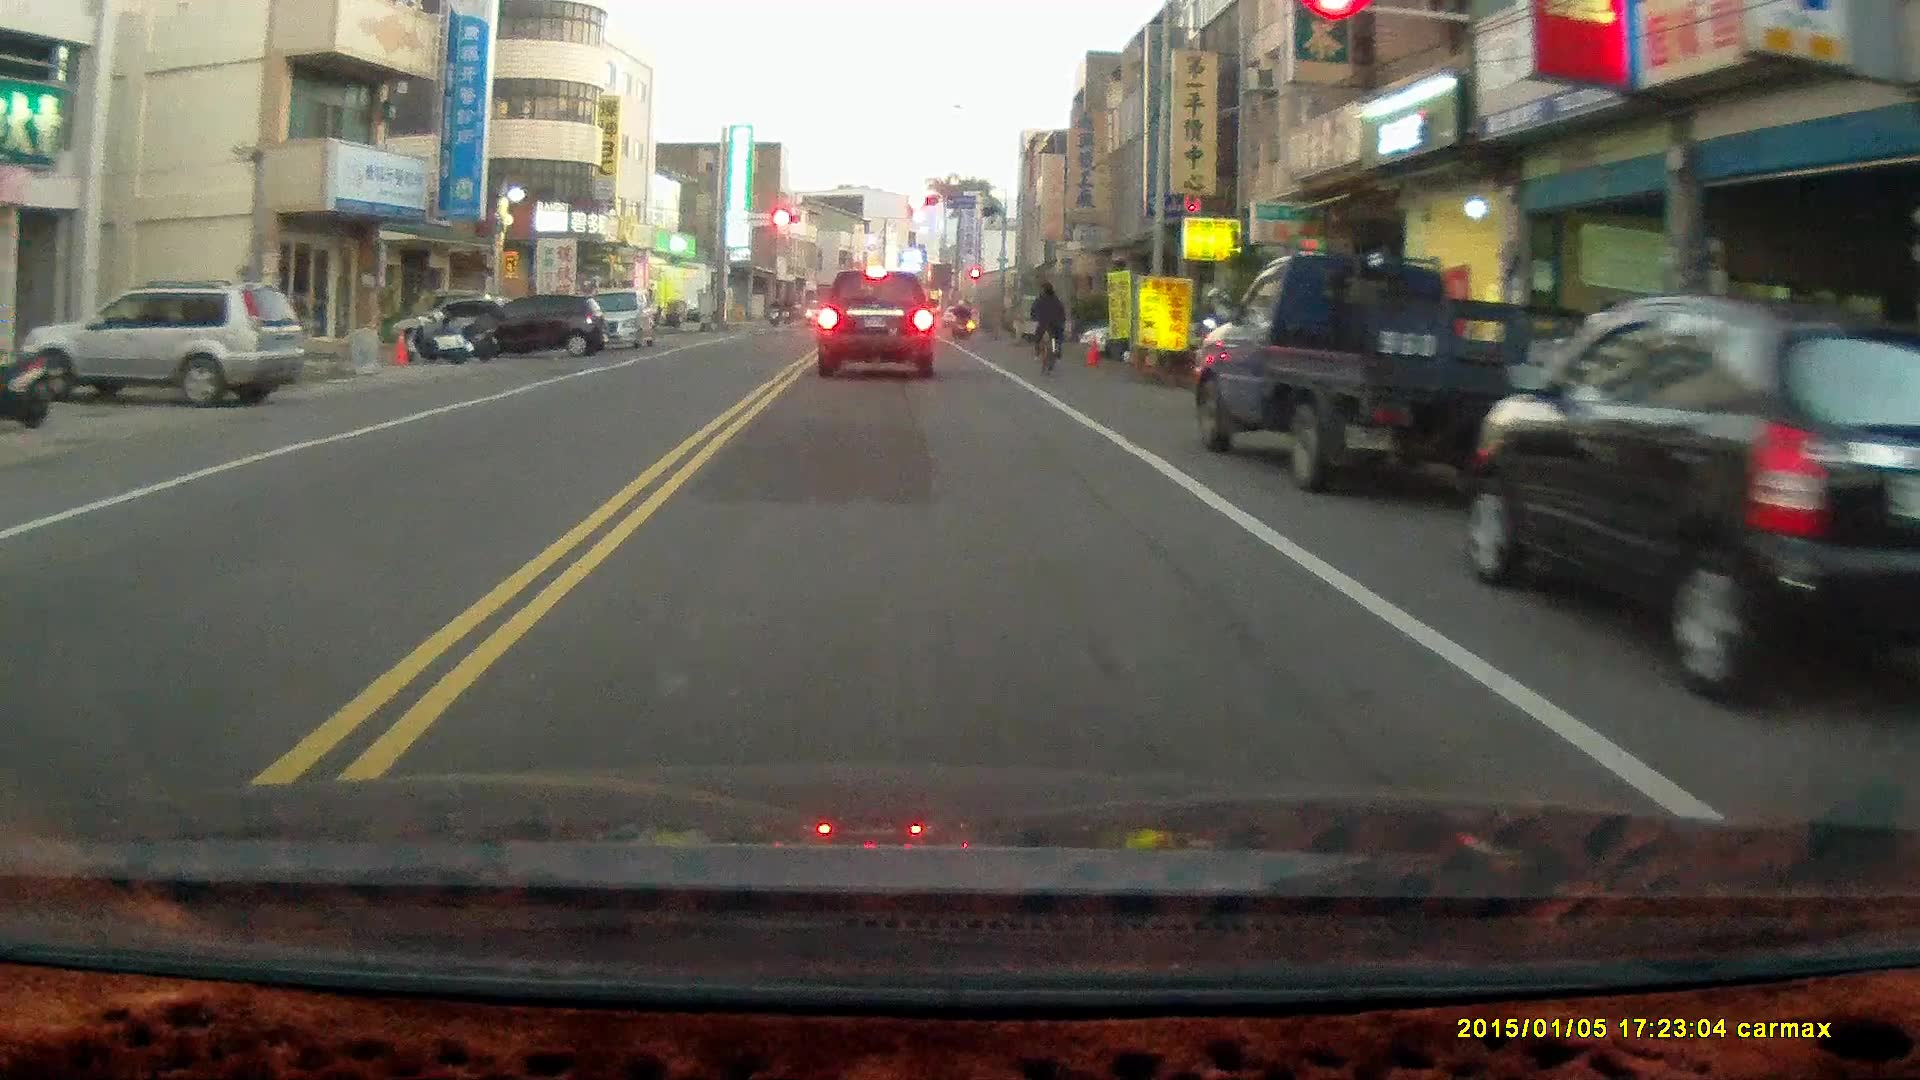rider: (1028, 276, 1067, 378)
vehicle: (1473, 294, 1920, 709), (1184, 245, 1592, 486), (13, 277, 303, 407), (817, 266, 939, 380), (458, 293, 610, 358), (561, 283, 661, 355)
